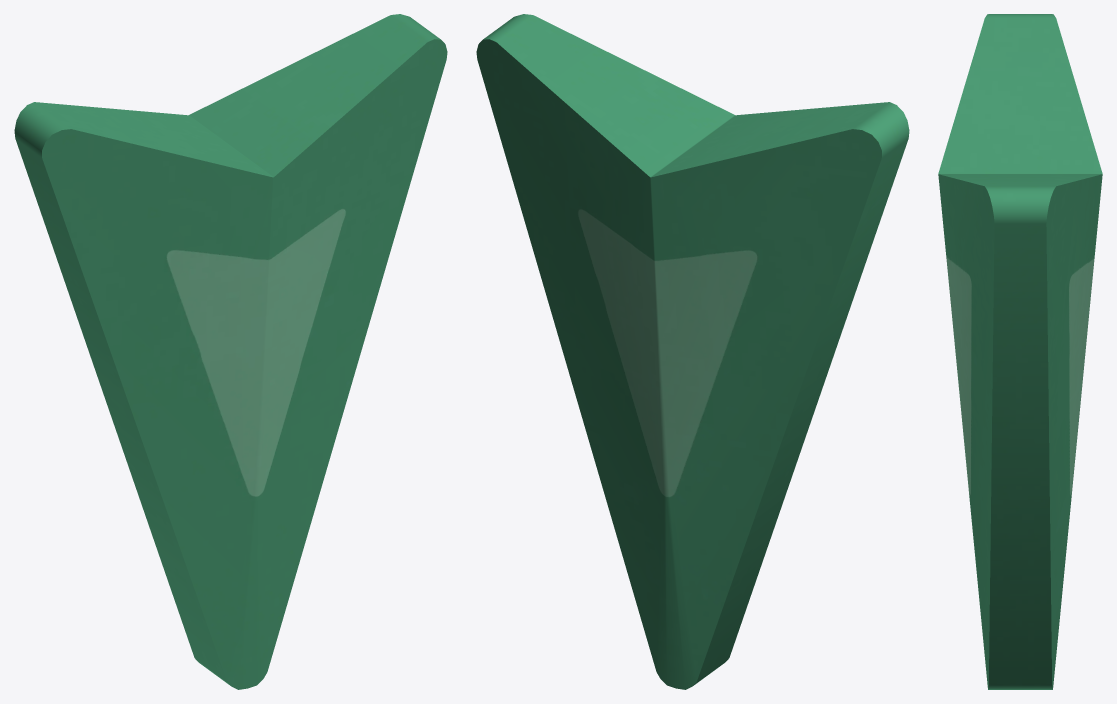
3 views of the same model, side by side, from view 1: azimuth 30°, elevation 25°; view 2: azimuth 150°, elevation 25°; view 3: azimuth 270°, elevation 25° (orthographic). The views are drawn at different scales.
Visible parts, largest first — view 1: Arrow2_Arrow2_0; view 2: Arrow2_Arrow2_0; view 3: Arrow2_Arrow2_0.
Part boxes in pixels (<box>): Arrow2_Arrow2_0: <box>14,14,447,689</box>; Arrow2_Arrow2_0: <box>476,14,909,689</box>; Arrow2_Arrow2_0: <box>938,14,1102,689</box>.
Size of the model in its own units: 0.1618 by 0.2303 by 0.0588.
1 material, 1 textured.
